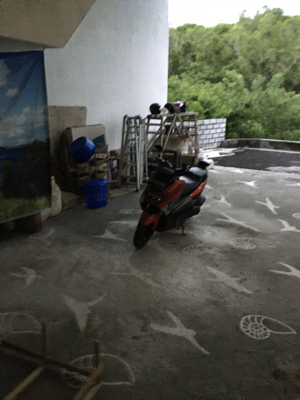moto: (125, 150, 212, 250)
